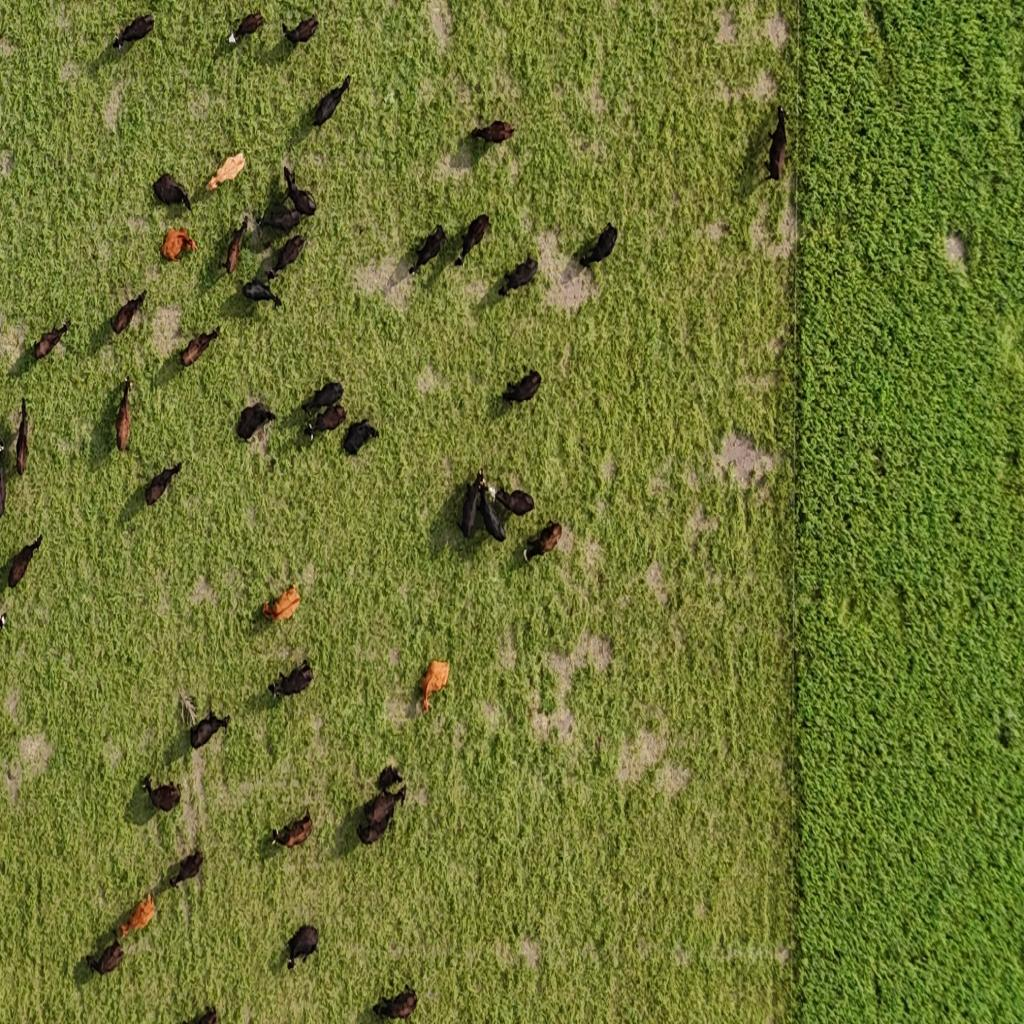cow: (357, 787, 406, 845), (757, 102, 791, 185), (311, 75, 349, 128), (266, 233, 306, 281), (408, 226, 446, 276), (283, 164, 318, 218), (117, 893, 155, 942), (577, 225, 618, 270), (14, 404, 37, 484), (8, 536, 42, 590), (456, 214, 490, 268), (190, 707, 230, 751), (269, 660, 313, 700), (419, 658, 450, 714), (236, 401, 276, 443), (180, 326, 220, 368), (285, 923, 319, 972), (113, 13, 154, 53), (270, 811, 312, 850), (111, 290, 147, 335), (222, 216, 249, 276), (480, 481, 506, 543), (141, 773, 181, 813), (499, 258, 538, 299), (206, 151, 244, 193), (168, 846, 205, 888), (145, 464, 182, 506), (152, 172, 192, 210), (524, 522, 561, 563), (302, 380, 344, 416), (373, 986, 416, 1021), (306, 404, 346, 441), (34, 320, 71, 360), (262, 585, 300, 623), (260, 202, 304, 234), (503, 370, 541, 406), (115, 376, 133, 452), (494, 484, 534, 518), (87, 941, 124, 977), (343, 420, 379, 456), (461, 475, 481, 539), (161, 227, 197, 262), (242, 279, 282, 310), (230, 10, 264, 46), (282, 15, 318, 47), (470, 121, 515, 145), (376, 764, 405, 794), (0, 420, 7, 522), (187, 1006, 217, 1024)
